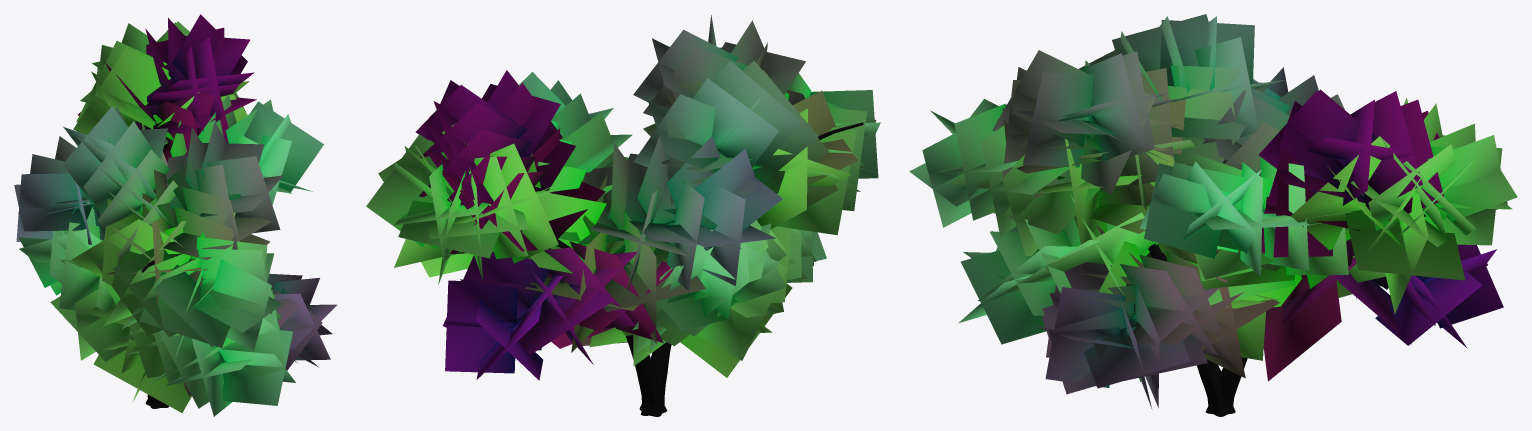
The model's file is Tree15_V2.fbx.
The picture shows the model from 3 angles, left to right: view 1: azimuth 30°, elevation 25°; view 2: azimuth 150°, elevation 25°; view 3: azimuth 270°, elevation 25°; orthographic projection. The views are drawn at different scales.
Parts seen in each view (by area): view 1: Tree_1, Tree_0; view 2: Tree_1, Tree_0; view 3: Tree_1, Tree_0.
Boxes of the visible parts, box(x1,y1,x2,y2) form: Tree_1: box(14, 14, 337, 416); Tree_0: box(71, 137, 225, 408); Tree_1: box(366, 15, 880, 380); Tree_0: box(516, 122, 863, 416); Tree_1: box(909, 14, 1517, 409); Tree_0: box(1089, 117, 1425, 416).
Size of the model in its own units: 334 by 360 by 533.
